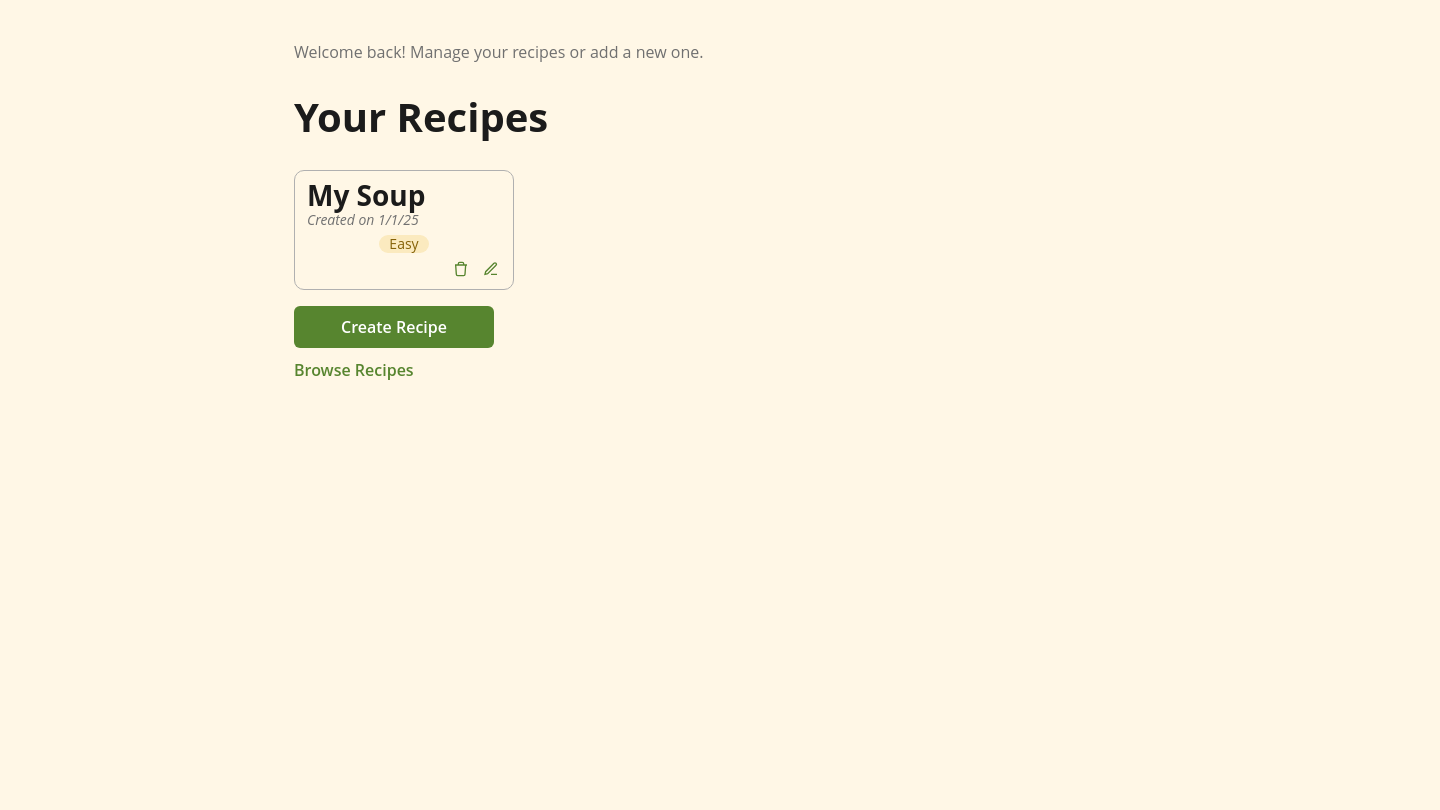
Test: DashboardPage › shows a confirm modal and deletes a recipe on confirm
This screenshot has width=1440, height=810.
Expected: the heading "My Soup" is shown, [307,176,426,214]
Click the button named "delete recipe": (461, 269) [451,259,471,279]
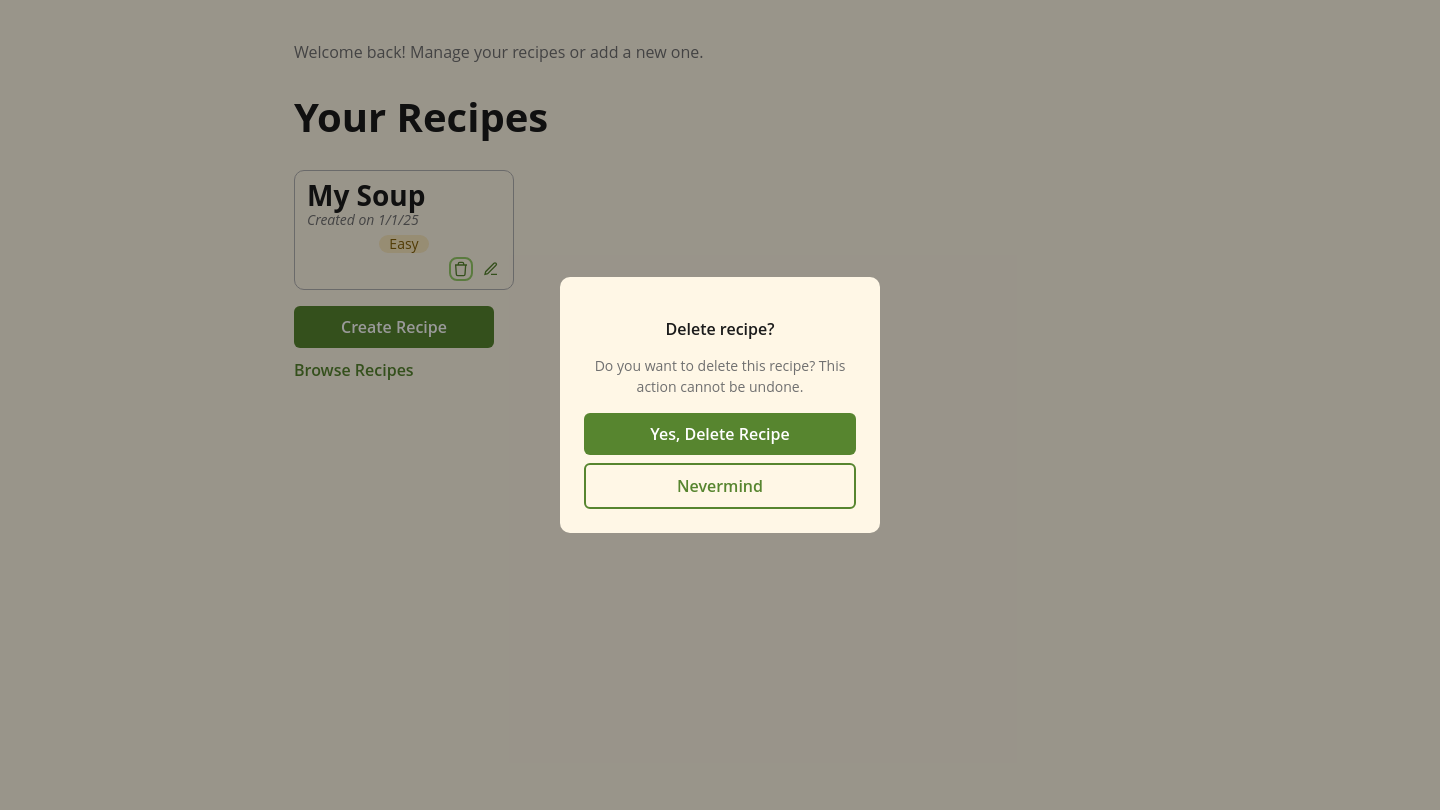
Expected: the text "Delete recipe?" is shown, [666,318,774,340]
Click the button "Yes, Delete Recipe": (720, 434) [584,413,856,455]
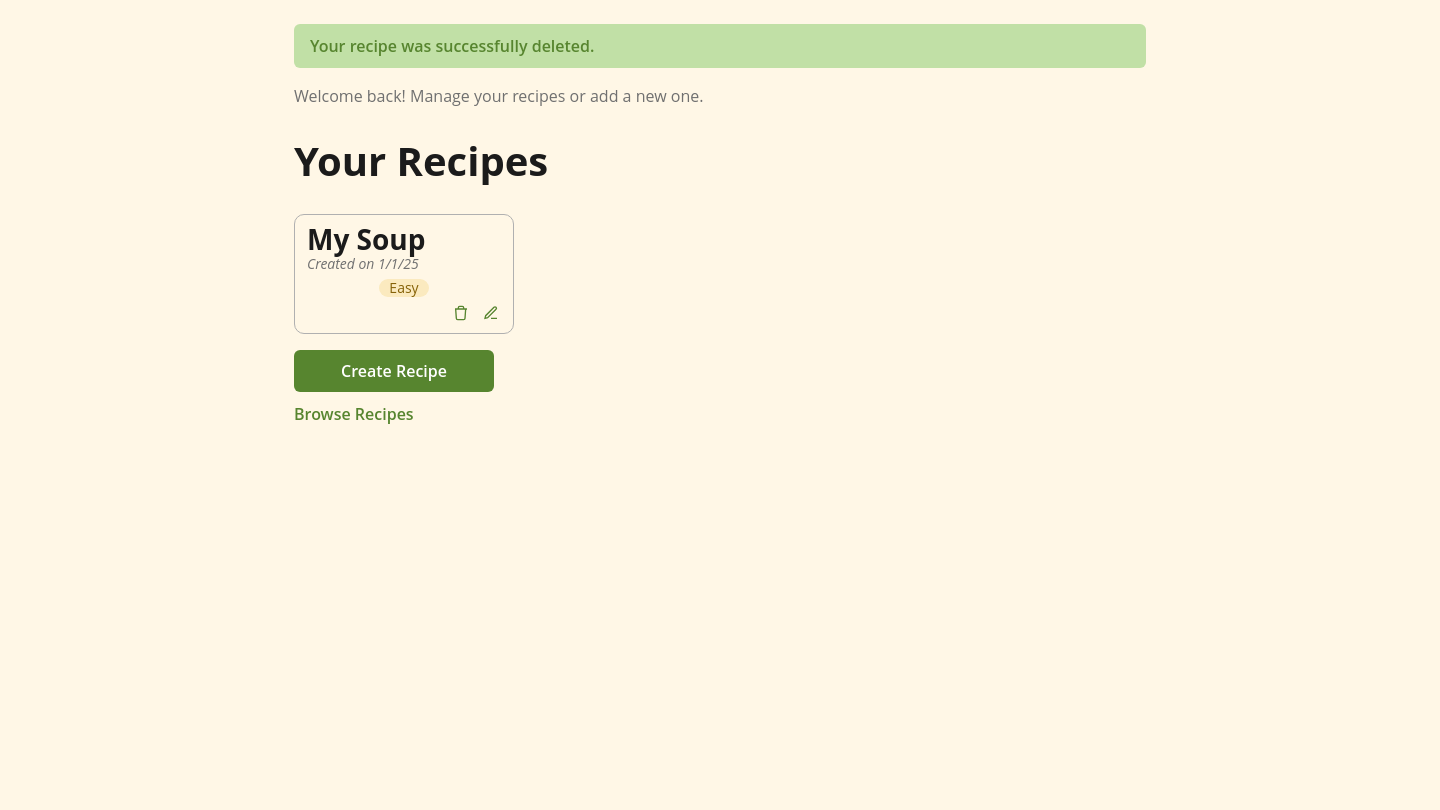
Expected: the text "Your recipe was successfully deleted." is shown, [294,24,1146,68]
